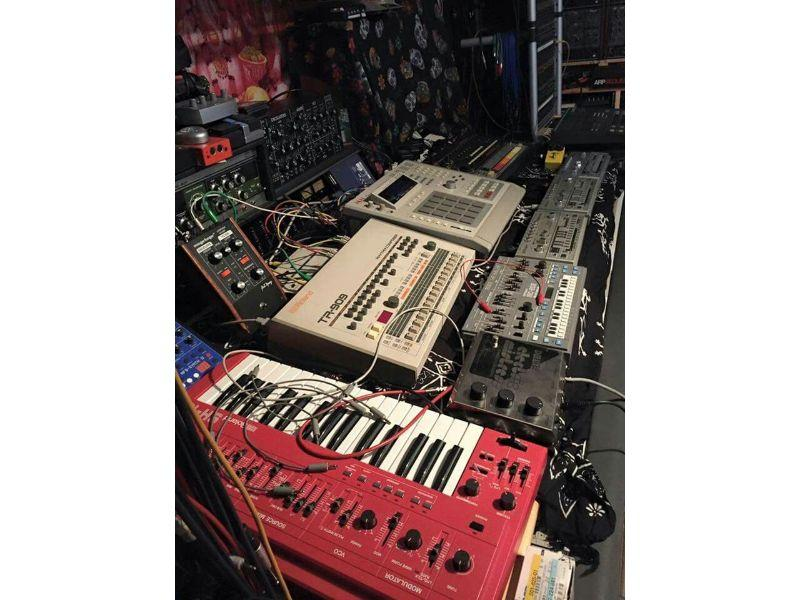synthesizer: (188, 406, 555, 587)
